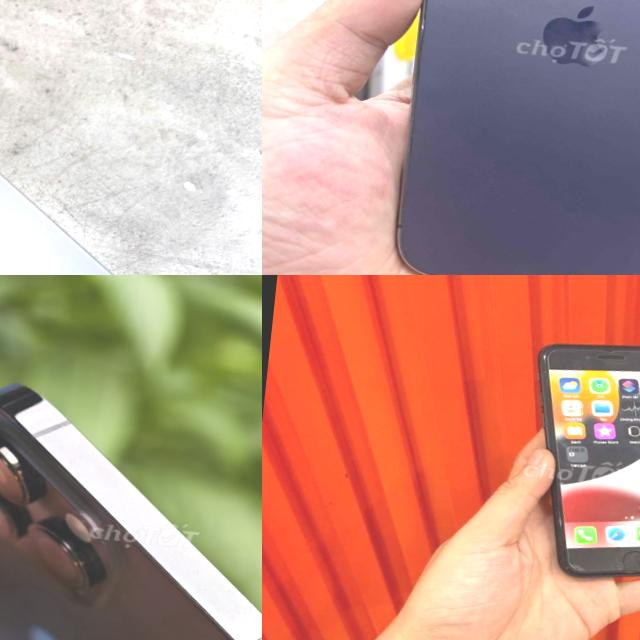scratch: (536, 346, 550, 369), (552, 510, 566, 528), (562, 561, 588, 570)
